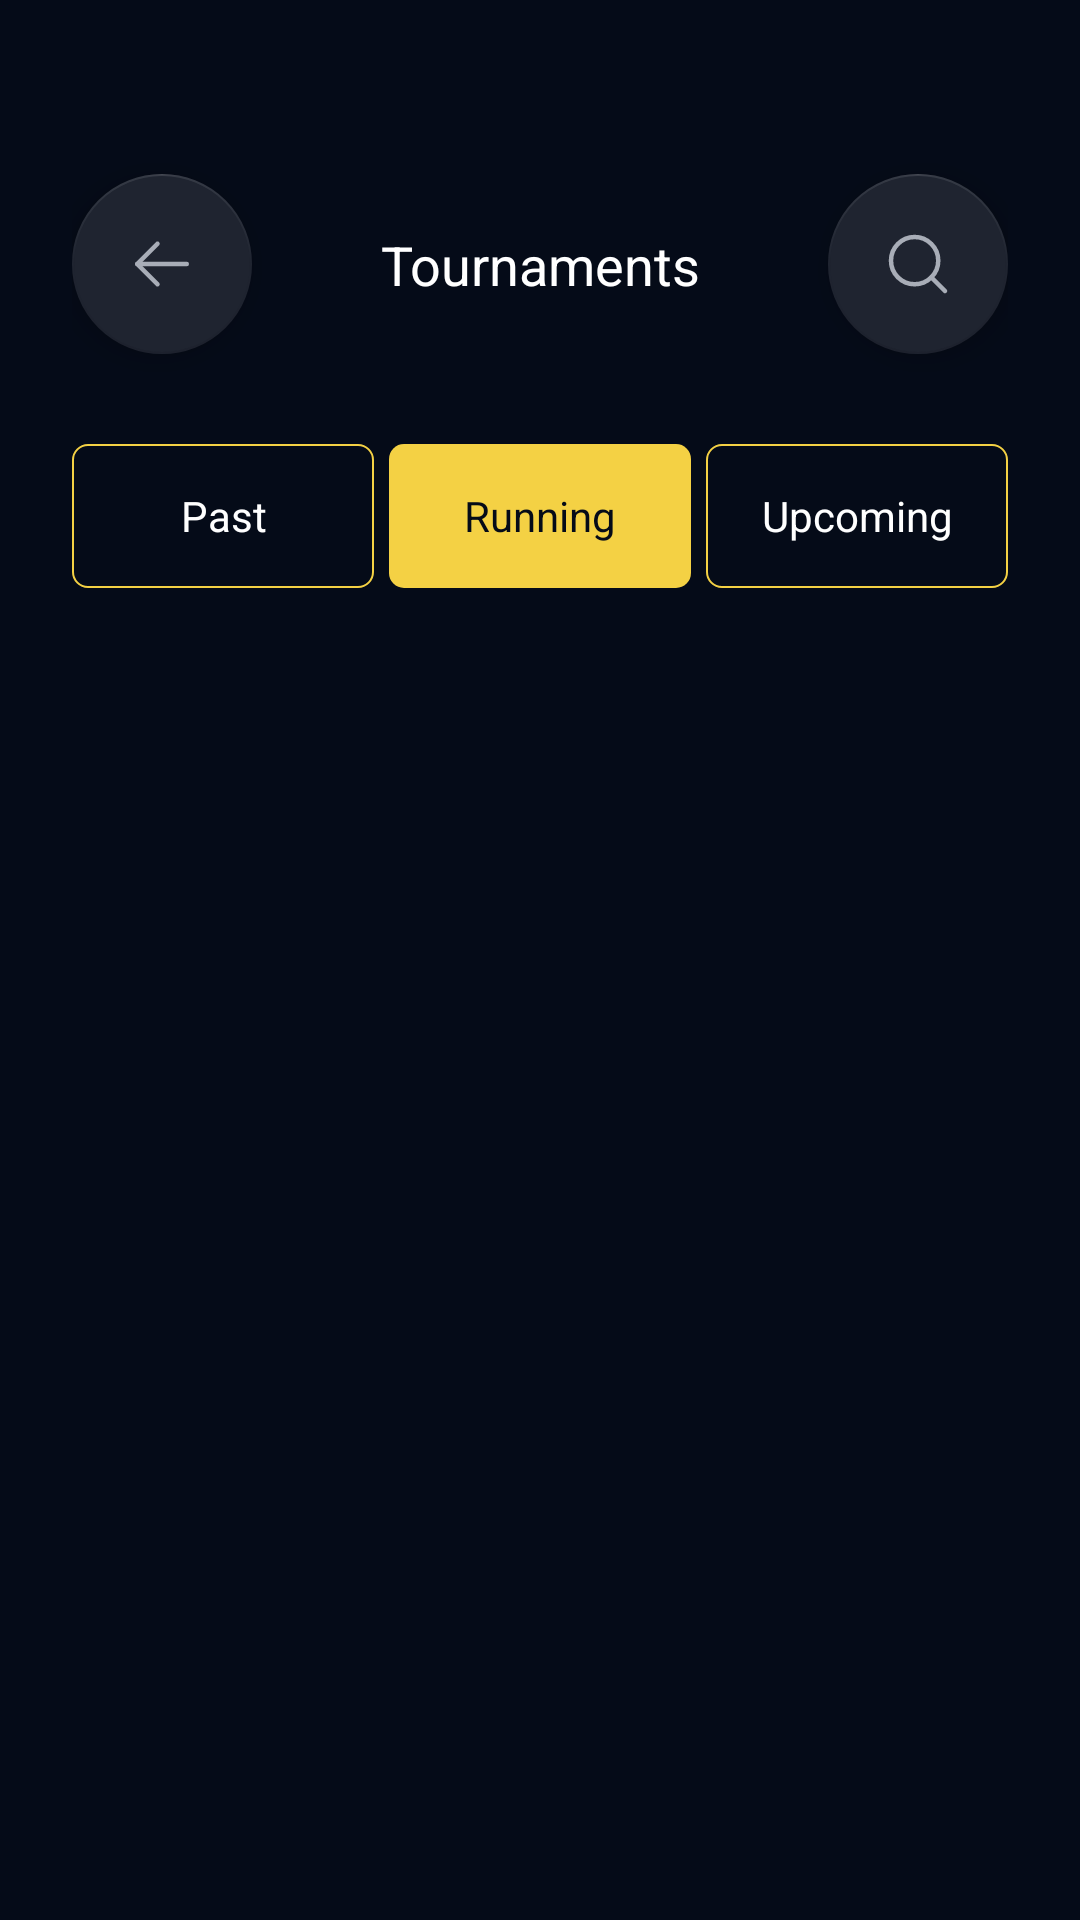

Icon click points for this 1080px×1920px phone screenshot, format point (x, y):
arrow back: point (162, 263)
search: point (918, 263)
